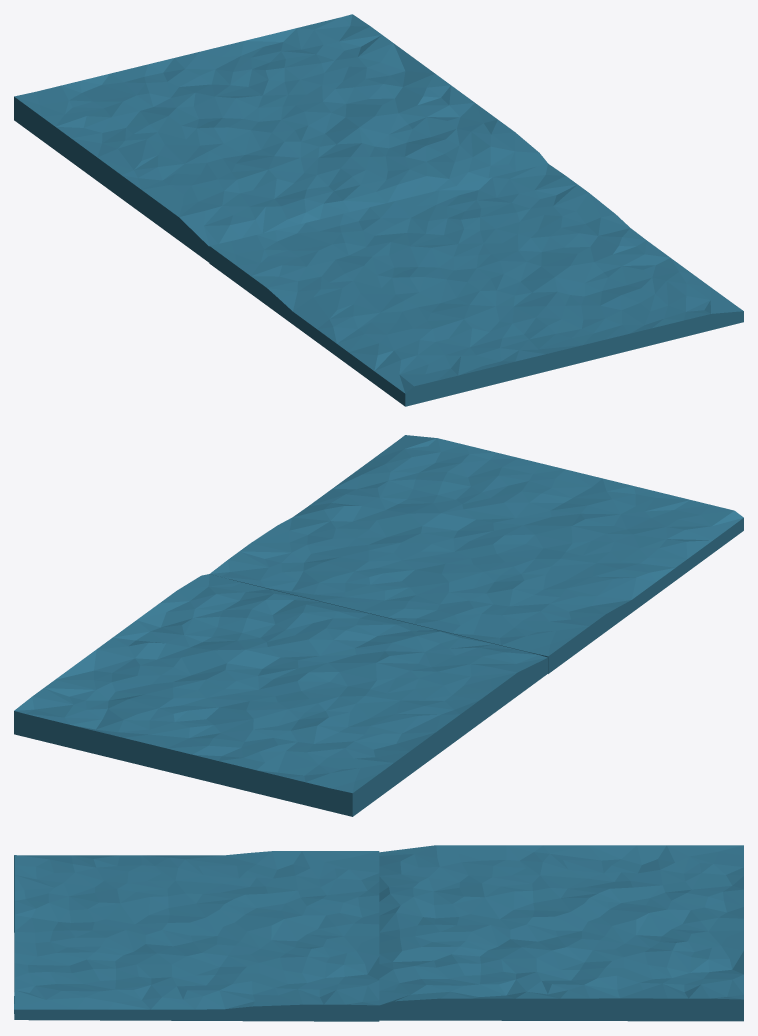
The model's file is Rio OFICIAL.fbx.
3 views of the same model, one above another, from view 1: azimuth 30°, elevation 25°; view 2: azimuth 150°, elevation 25°; view 3: azimuth 270°, elevation 25° (orthographic). The views are drawn at different scales.
Visible parts, largest first — view 1: rio.003, rio.002; view 2: rio.002, rio.003; view 3: rio.002, rio.003.
Part boxes in pixels (x1,y1,x2,y2): rio.003: (209,163,743,406); rio.002: (14,14,547,262); rio.002: (14,574,547,816); rio.003: (210,435,743,673); rio.002: (378,845,743,1021); rio.003: (14,851,379,1021).
Size of the model in its own units: 1001 by 70.87 by 2002.
